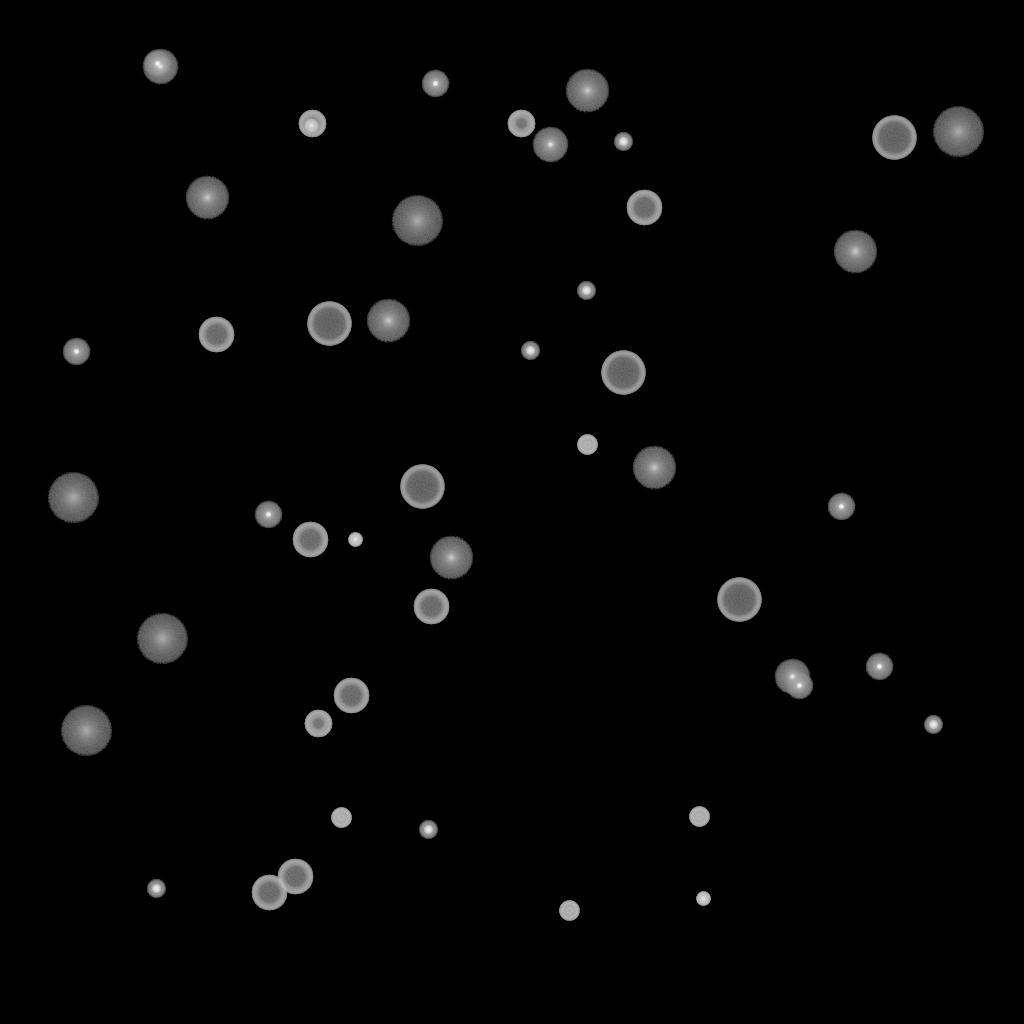depth:-10: (865, 653, 893, 681), (421, 70, 449, 98), (827, 493, 855, 521), (62, 338, 90, 366), (143, 50, 171, 78), (785, 672, 813, 700), (254, 501, 282, 529)
depth:-20: (147, 880, 165, 898), (577, 282, 595, 300), (924, 716, 942, 734), (521, 342, 539, 360), (614, 133, 632, 151), (419, 821, 437, 839)
depth:-30: (696, 892, 710, 906), (304, 119, 318, 133), (348, 533, 362, 547)
depth:-40: (559, 901, 579, 921), (689, 807, 709, 827), (331, 808, 351, 828), (577, 435, 597, 455)
depth:-50: (507, 110, 535, 138), (304, 710, 332, 738), (298, 110, 326, 138)
depth:-60: (277, 859, 313, 895), (292, 522, 328, 558), (333, 678, 369, 714), (626, 190, 662, 226), (198, 317, 234, 353), (251, 875, 287, 911), (413, 589, 449, 625)
depth:-70: (307, 302, 351, 346), (400, 465, 444, 509), (717, 578, 761, 622), (872, 116, 916, 160), (601, 351, 645, 395)
depth:0: (532, 127, 568, 163), (142, 49, 178, 85), (774, 659, 810, 695)
depth:10: (632, 446, 676, 490), (565, 69, 609, 113), (833, 230, 877, 274), (185, 176, 229, 220), (429, 536, 473, 580), (366, 299, 410, 343)
depth:20: (47, 473, 99, 523), (391, 196, 443, 246), (136, 614, 188, 664), (60, 706, 112, 756), (932, 107, 984, 157)
